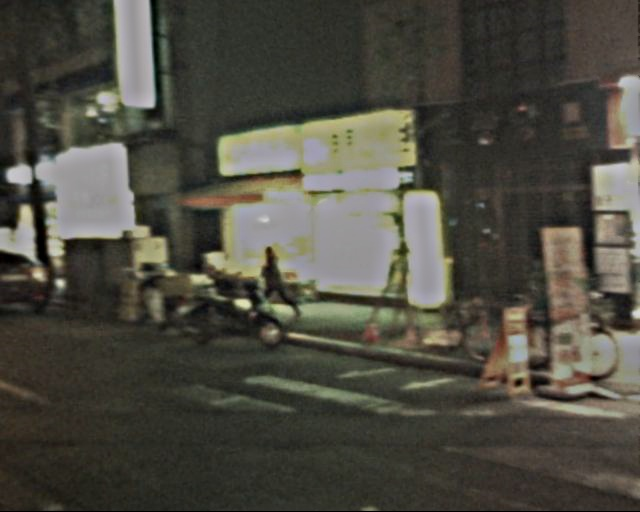person: (246, 239, 288, 322)
